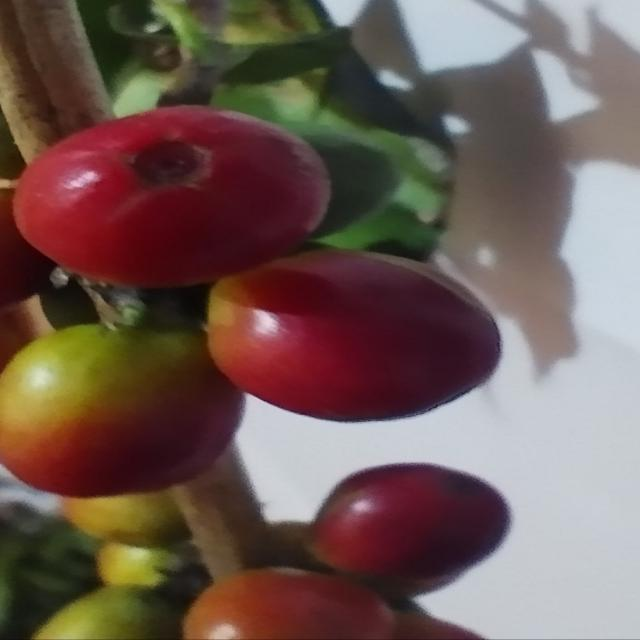Sano: (10, 106, 337, 292), (206, 250, 503, 425), (0, 323, 245, 500)
